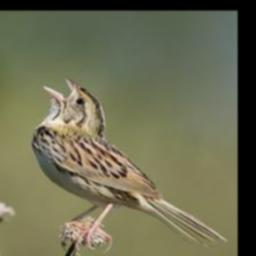Sparrow: (29, 73, 233, 256)
